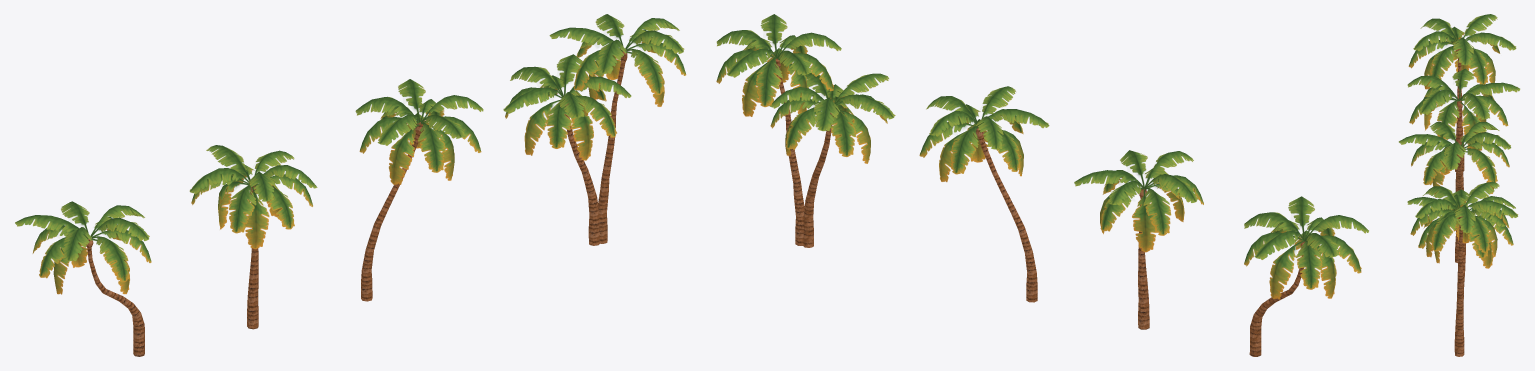
The picture shows the model from 3 angles, left to right: view 1: azimuth 30°, elevation 25°; view 2: azimuth 150°, elevation 25°; view 3: azimuth 270°, elevation 25°; orthographic projection. The views are drawn at different scales.
Parts seen in each view (by area): view 1: Leaf_4, Leaf_3, Leaf_2, Leaf_1, Bark_4, Bark_3, Bark_1, Bark_2; view 2: Leaf_4, Leaf_1, Leaf_2, Leaf_3, Bark_4, Bark_3, Bark_1, Bark_2; view 3: Leaf_4, Leaf_1, Leaf_3, Leaf_2, Bark_4, Bark_2, Bark_3, Bark_1.
Boxes of the visible parts, x1,y1,x2,y2 form: Leaf_4: (503,14,686,160); Leaf_3: (355,79,483,184); Leaf_2: (189,145,317,249); Leaf_1: (15,201,151,294); Bark_4: (564,51,627,245); Bark_3: (361,122,423,301); Bark_1: (86,239,144,356); Bark_2: (247,186,258,329); Leaf_4: (716,14,895,163); Leaf_1: (1244,196,1368,299); Leaf_2: (1074,150,1203,252); Leaf_3: (919,86,1049,182); Bark_4: (774,58,833,247); Bark_3: (975,127,1037,302); Bark_1: (1249,241,1304,356); Bark_2: (1138,187,1149,329); Leaf_4: (1407,181,1518,268); Leaf_1: (1408,14,1516,89); Leaf_3: (1398,121,1511,197); Leaf_2: (1407,68,1520,152); Bark_4: (1454,216,1465,356); Bark_2: (1455,100,1463,191); Bark_3: (1455,154,1461,262); Bark_1: (1455,48,1464,171).
Bounding box in the file's own units: 17.15 × 5.31 × 3.44.
Materials: 7 (7 with a texture image).
